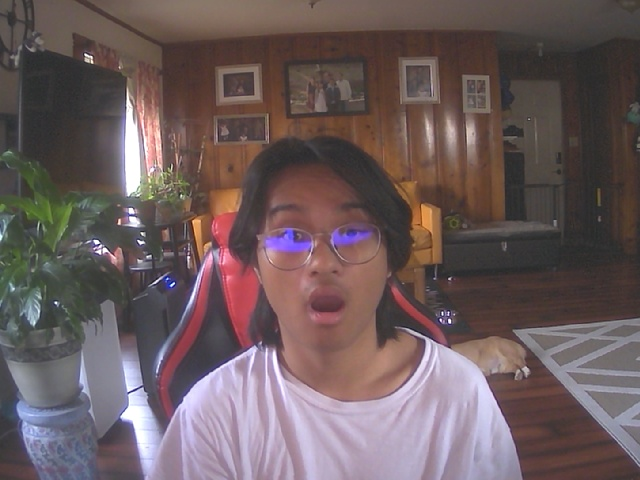fear: (250, 149, 402, 356)
